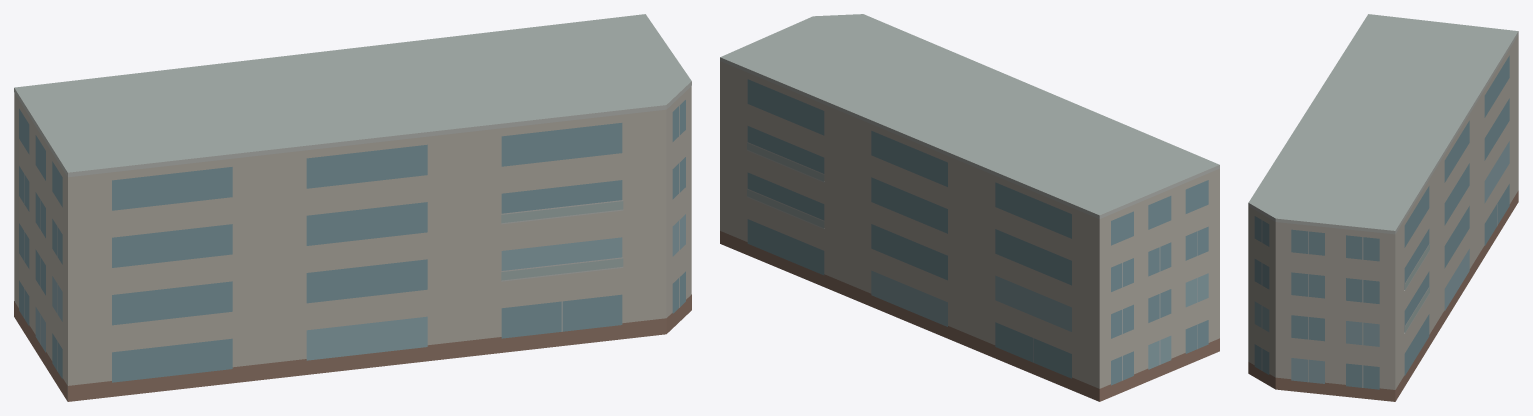
Rendered from survey-upis-32871989.glb.
3 views of the same model, side by side, from view 1: azimuth 30°, elevation 25°; view 2: azimuth 150°, elevation 25°; view 3: azimuth 270°, elevation 25° (orthographic). The views are drawn at different scales.
Parts seen in each view (by area): view 1: survey-upis-32871989.tmp; view 2: survey-upis-32871989.tmp; view 3: survey-upis-32871989.tmp.
Boxes of the visible parts, box(x1,y1,x2,y2) form: survey-upis-32871989.tmp: box(14, 14, 691, 401); survey-upis-32871989.tmp: box(720, 14, 1219, 401); survey-upis-32871989.tmp: box(1248, 14, 1518, 401).
Size of the model in its own units: 33.21 by 12.2 by 17.48.
